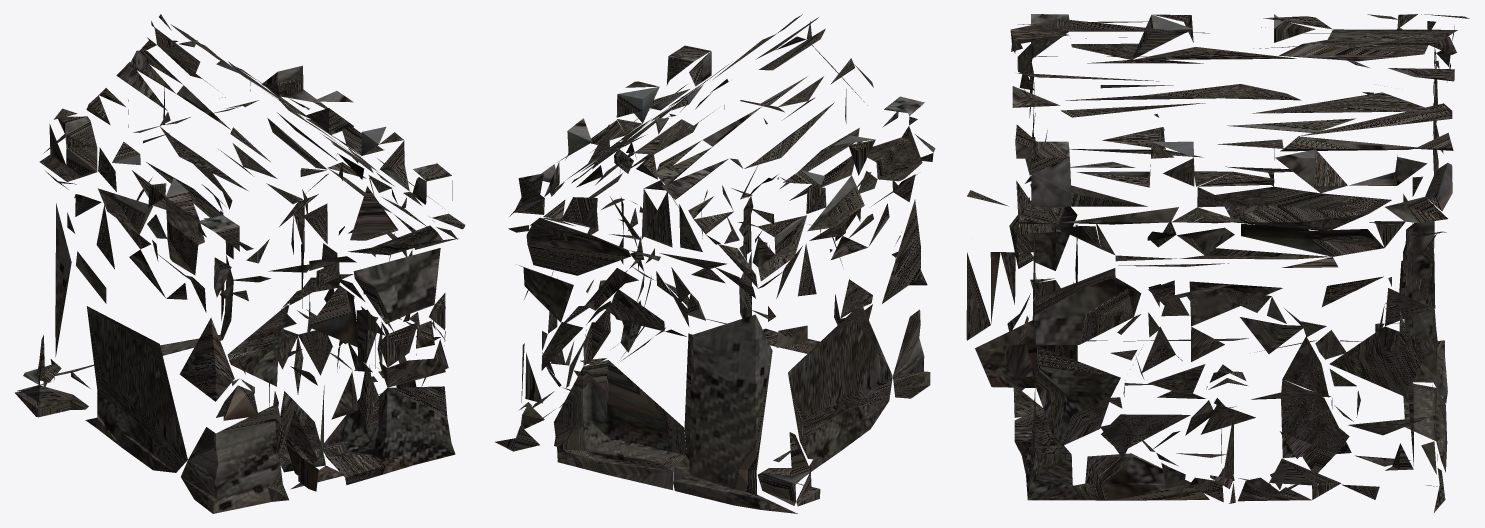
File: bld_ws_mill_a_LOD2.glb
3 views of the same model, side by side, from view 1: azimuth 30°, elevation 25°; view 2: azimuth 150°, elevation 25°; view 3: azimuth 270°, elevation 25° (orthographic). The views are drawn at different scales.
Parts seen in each view (by area): view 1: geometry_0; view 2: geometry_0; view 3: geometry_0.
Part boxes in pixels (left/top/right/bottom): geometry_0: left=15, top=14, right=465, bottom=513; geometry_0: left=495, top=14, right=935, bottom=513; geometry_0: left=966, top=14, right=1469, bottom=512.
Size of the model in its own units: 7.82 by 7.96 by 8.82.
1 material, 1 textured.
